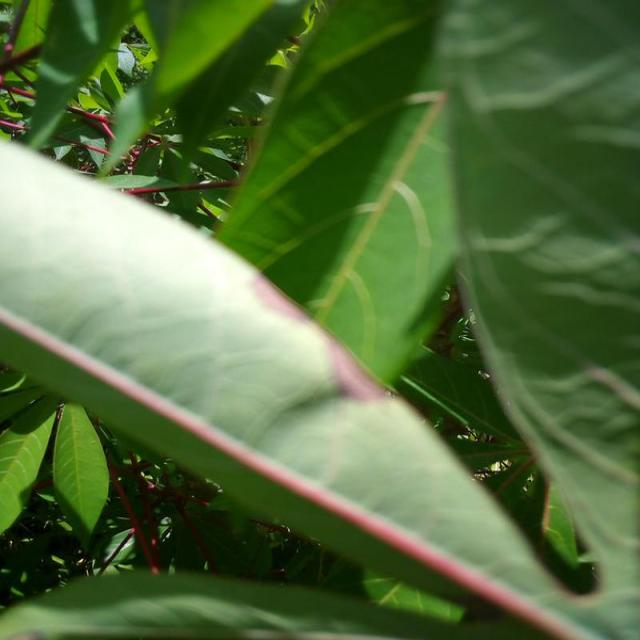cassava leaf: (0, 130, 618, 637)
